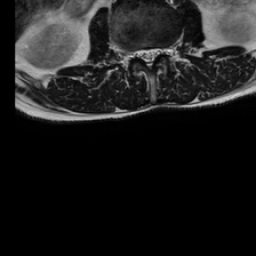CCS_normal: (145, 41, 153, 75)
LFS_stenosis: (161, 42, 168, 60)
LLS_normal: (153, 41, 160, 67)
RFS_stenosis: (130, 42, 139, 63)
RLS_normal: (138, 41, 145, 65)
